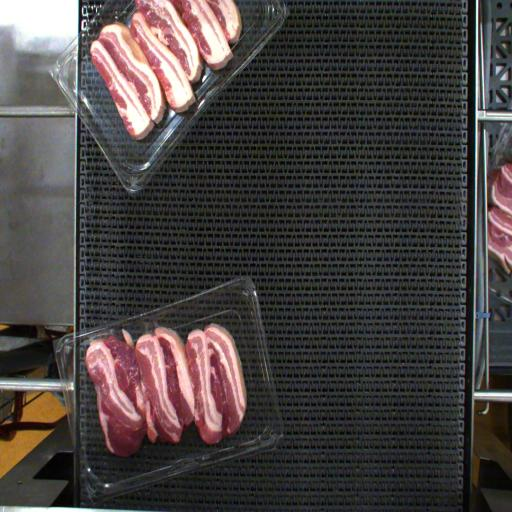packaging-error: (142, 321, 160, 335)
